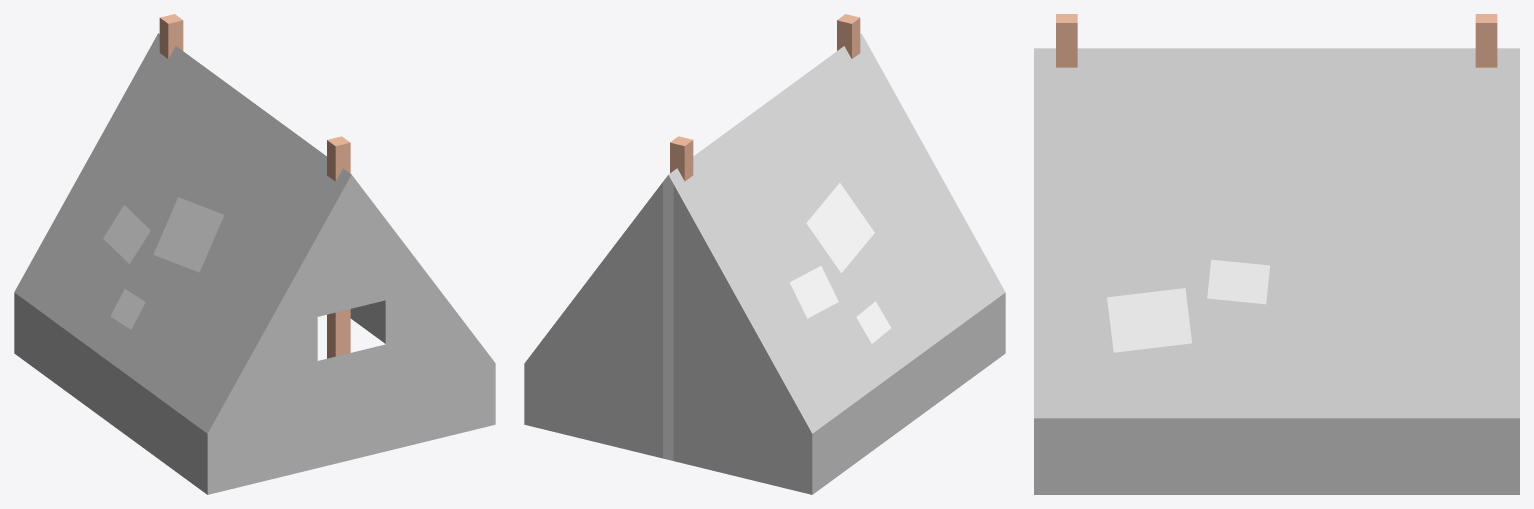
File: tent_small.glb
3 views of the same model, side by side, from view 1: azimuth 30°, elevation 25°; view 2: azimuth 150°, elevation 25°; view 3: azimuth 270°, elevation 25° (orthographic). The views are drawn at different scales.
Parts seen in each view (by area): view 1: tent_smallClosed; view 2: tent_smallClosed; view 3: tent_smallClosed.
Part boxes in pixels (<box>): tent_smallClosed: <box>14,14,495,494</box>; tent_smallClosed: <box>524,14,1005,494</box>; tent_smallClosed: <box>1034,14,1519,494</box>.
Size of the model in its own units: 0.5476 by 0.5611 by 0.6364.
